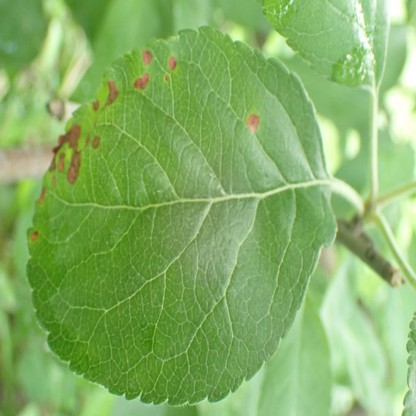frogeye_leaf_spot: (247, 113, 260, 134), (170, 57, 177, 70)
powdery_mildew: (50, 126, 82, 183), (102, 80, 119, 111), (135, 74, 149, 89), (143, 51, 153, 64), (38, 187, 46, 201), (85, 133, 92, 145), (93, 137, 100, 148), (93, 100, 100, 110), (31, 232, 38, 240), (164, 72, 169, 81)
